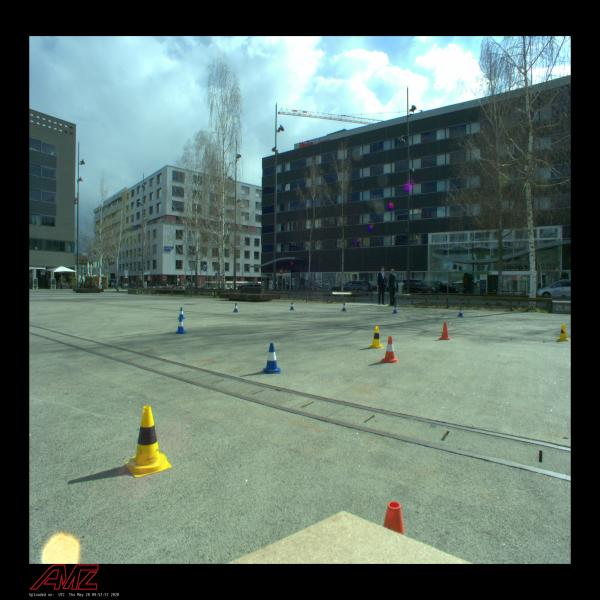blue_cone: (263, 343, 281, 373), (175, 316, 187, 334), (178, 307, 185, 319), (458, 307, 464, 317), (233, 303, 239, 312), (392, 306, 398, 314), (342, 303, 346, 312), (290, 302, 294, 310)
orange_cone: (380, 336, 398, 363), (439, 322, 452, 340)
yellow_cone: (125, 406, 172, 478), (369, 326, 384, 349), (556, 323, 571, 342)
